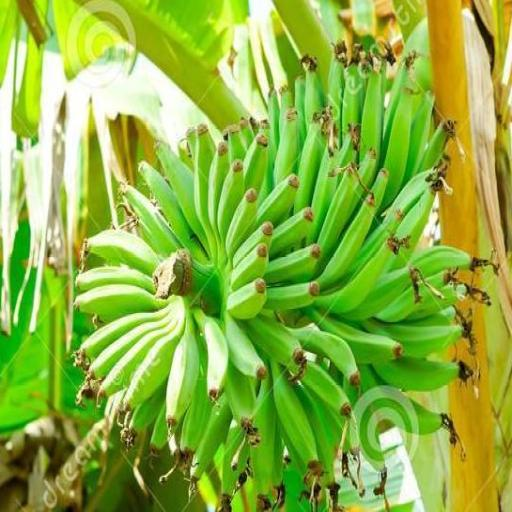banana-unripe: (40, 42, 498, 512)
